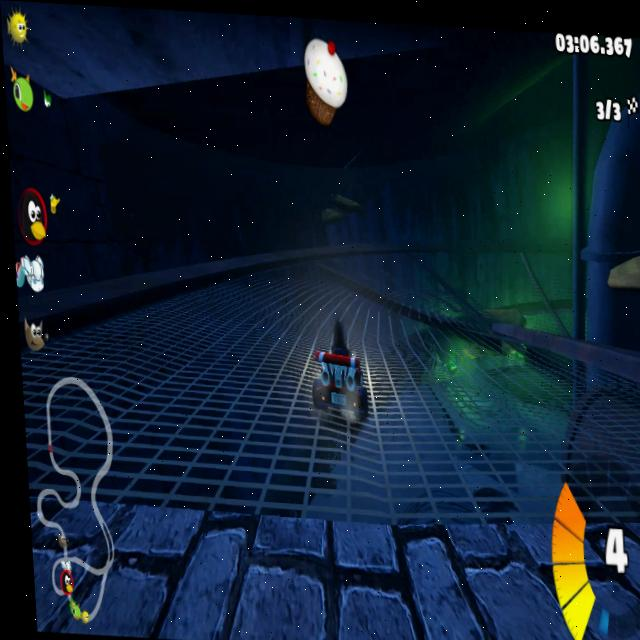player_kart: (308, 306, 373, 425)
track: (23, 346, 310, 640), (373, 319, 543, 640), (528, 382, 640, 640), (299, 419, 393, 640), (446, 245, 578, 325), (68, 320, 295, 365), (334, 247, 448, 317), (144, 294, 296, 336), (526, 348, 616, 387), (199, 278, 303, 304), (266, 260, 339, 290)
